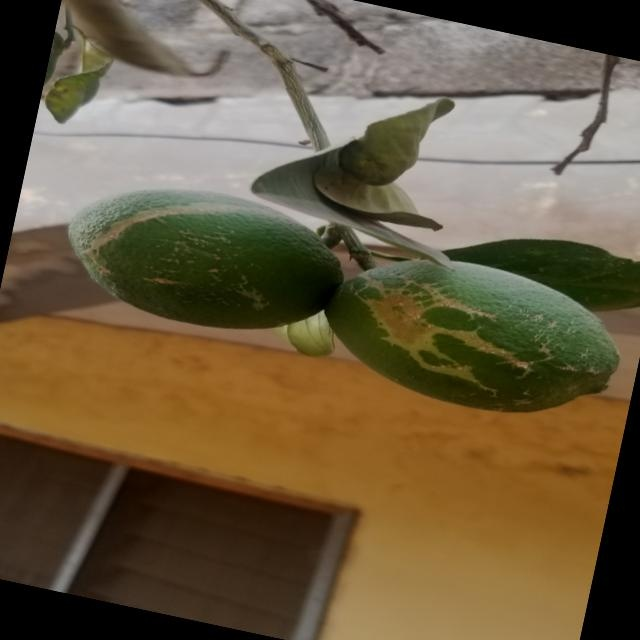agrume: (315, 235, 633, 437), (58, 165, 354, 353)
